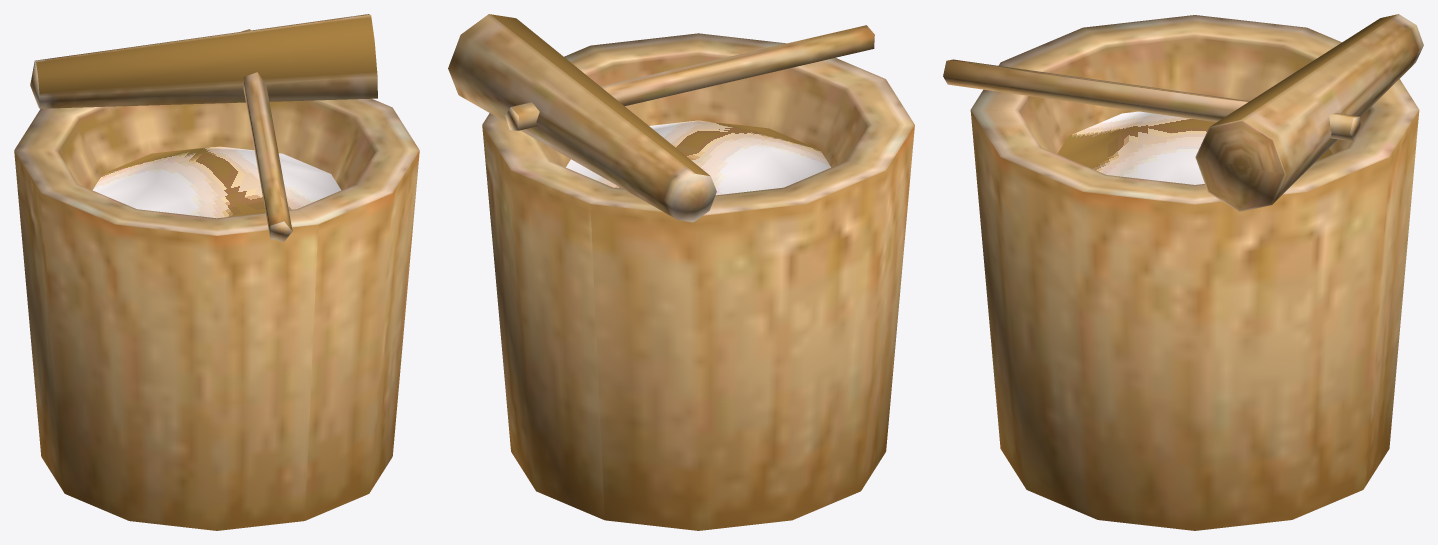
File: int_oth_ricecake.dae
3 views of the same model, side by side, from view 1: azimuth 30°, elevation 25°; view 2: azimuth 150°, elevation 25°; view 3: azimuth 270°, elevation 25° (orthographic). The views are drawn at different scales.
Visible parts, largest first — view 1: int_oth_ricecake; view 2: int_oth_ricecake; view 3: int_oth_ricecake.
Part boxes in pixels (<box>): int_oth_ricecake: <box>14,14,419,530</box>; int_oth_ricecake: <box>448,14,914,530</box>; int_oth_ricecake: <box>943,14,1423,530</box>.
Size of the model in its own units: 24.22 by 24 by 24.69.
2 materials, 2 textured.
